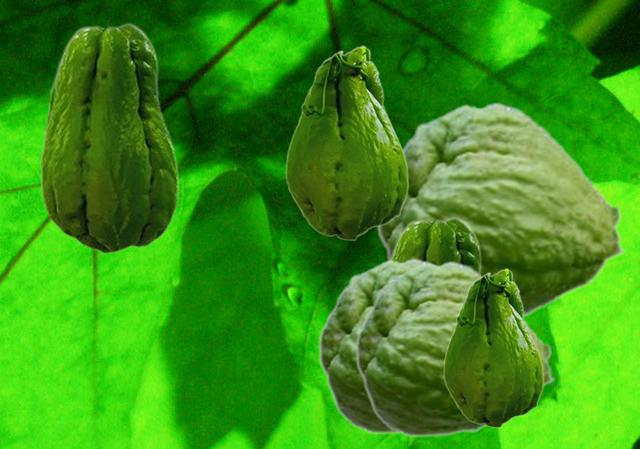sayote: (376, 101, 626, 319), (355, 260, 555, 437), (40, 22, 178, 253), (285, 45, 408, 240), (318, 257, 438, 434), (443, 268, 543, 427), (389, 216, 482, 274)
